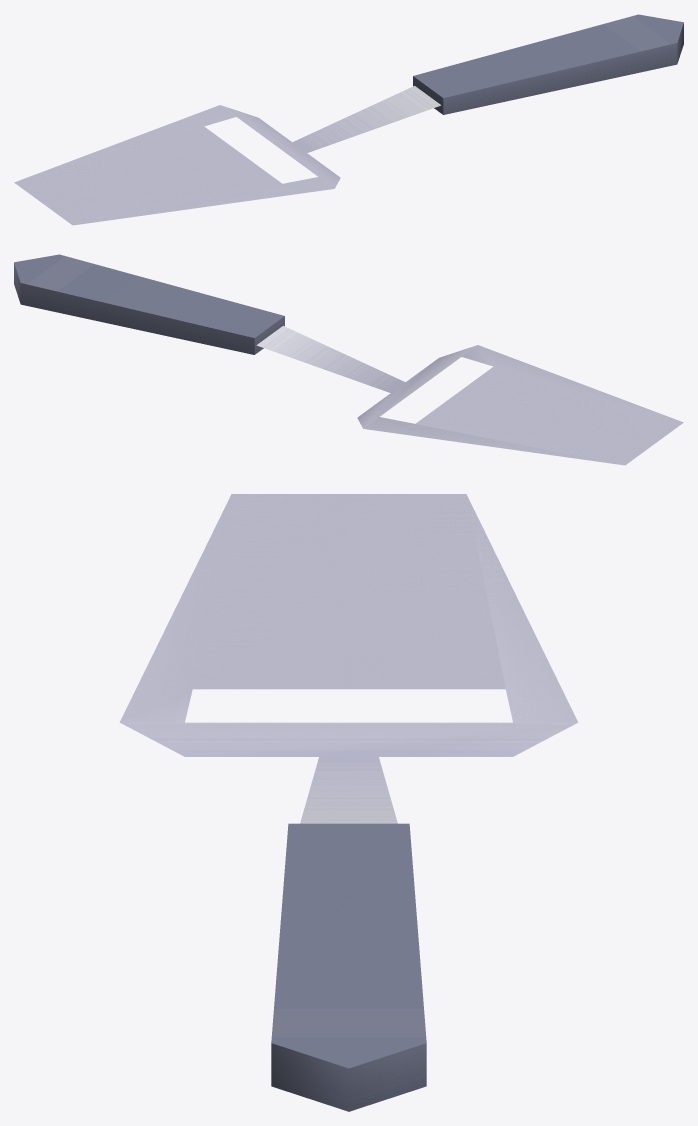
Rendered from cheese_slicer.glb.
3 views of the same model, one above another, from view 1: azimuth 30°, elevation 25°; view 2: azimuth 150°, elevation 25°; view 3: azimuth 270°, elevation 25° (orthographic). The views are drawn at different scales.
Parts seen in each view (by area): view 1: cheese-slicer; view 2: cheese-slicer; view 3: cheese-slicer.
Boxes of the visible parts, x1,y1,x2,y2 form: cheese-slicer: (14, 14, 683, 225); cheese-slicer: (14, 254, 683, 465); cheese-slicer: (119, 494, 578, 1111).
Size of the model in its own units: 0.6184 by 0.0292 by 0.1918.
1 material, 1 textured.
